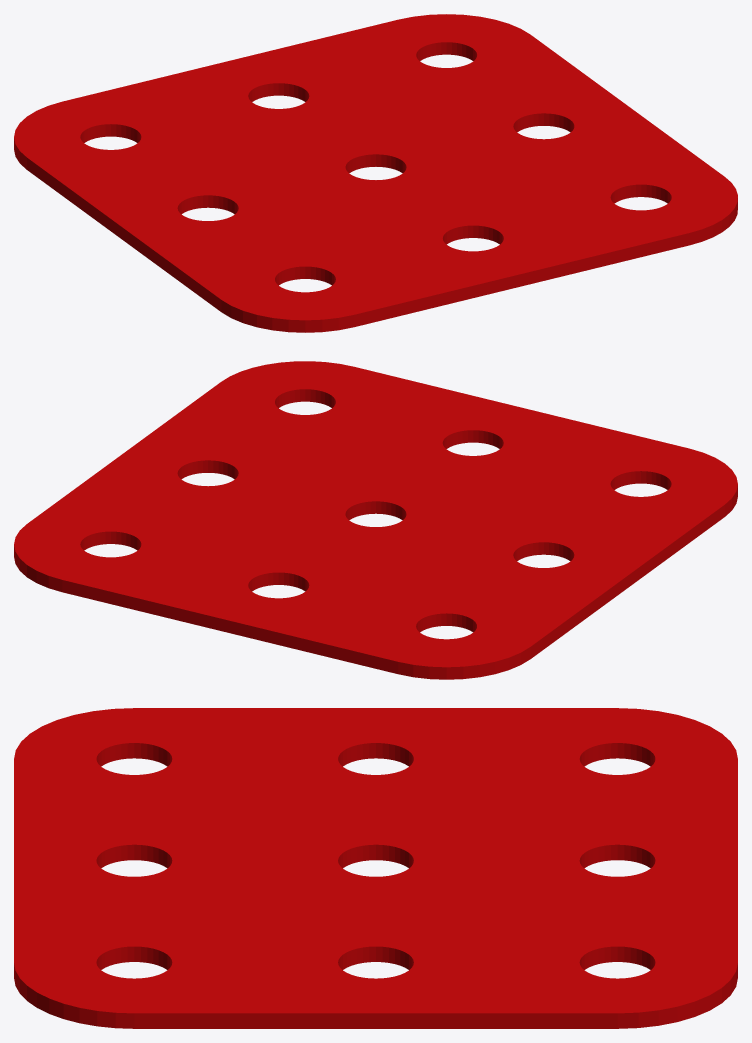
Rendered from TamPhang_3x3.glb.
3 renders of one model, top to bottom at view 1: azimuth 30°, elevation 25°; view 2: azimuth 150°, elevation 25°; view 3: azimuth 270°, elevation 25°, orthographic. The views are drawn at different scales.
Visible parts, largest first — view 1: defaultobject; view 2: defaultobject; view 3: defaultobject.
Part boxes in pixels (bbox=[...]): defaultobject: bbox=[14, 14, 737, 332]; defaultobject: bbox=[14, 361, 737, 679]; defaultobject: bbox=[14, 708, 737, 1028].
Bounding box in the file's own units: 94.87 × 2.24 × 95.08.
